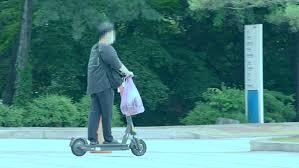helmet: (66, 21, 149, 157)
